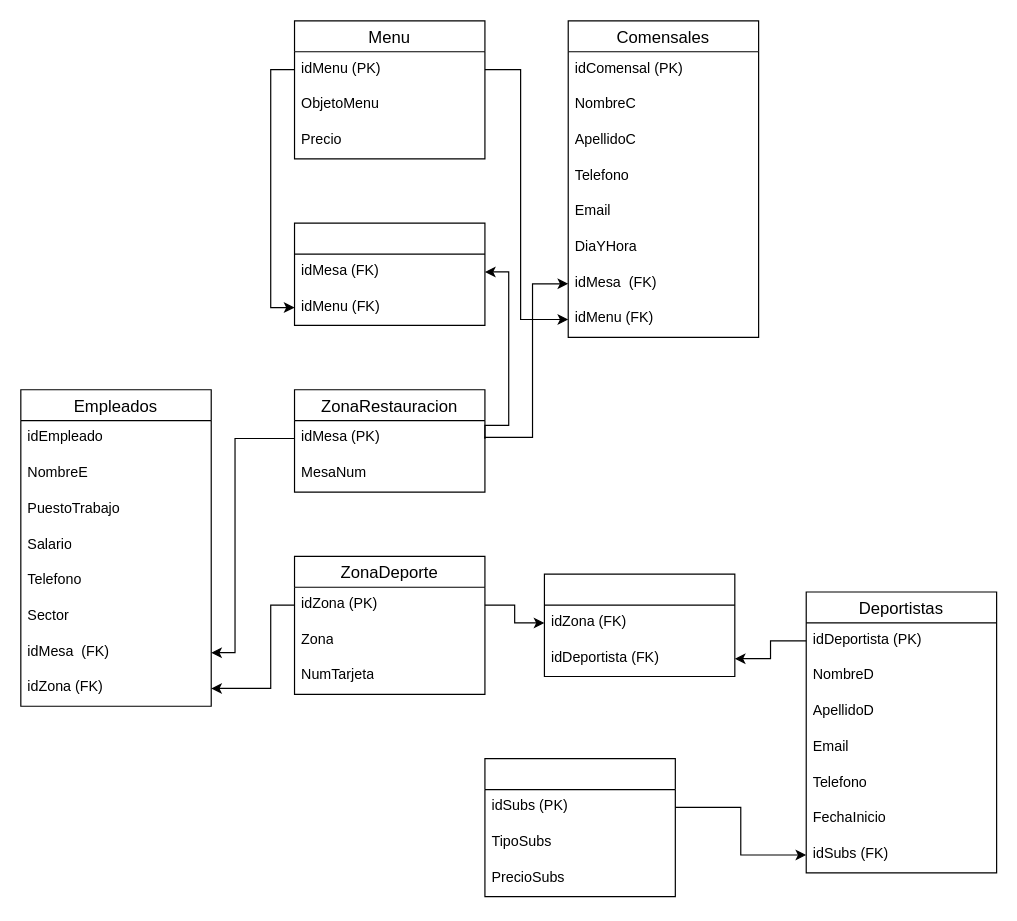
Image size: 1017x921. Some labels were removed from this diagram. The box of each missing label's shape, as (x1, y1, x2, y2) in pixels:
Entrenan: (543, 573, 735, 677)
SeSirve: (293, 222, 485, 325)
Suscripcion: (484, 757, 675, 897)
